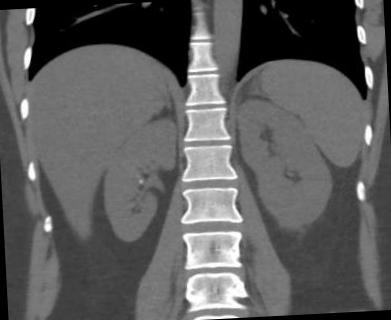Tas_Var: (138, 178, 144, 184)
